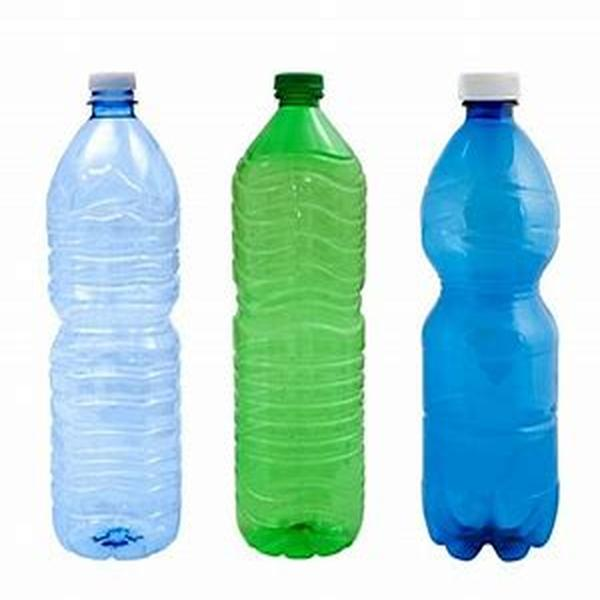tutuma: (396, 57, 578, 569), (222, 64, 378, 564), (38, 63, 192, 567)
